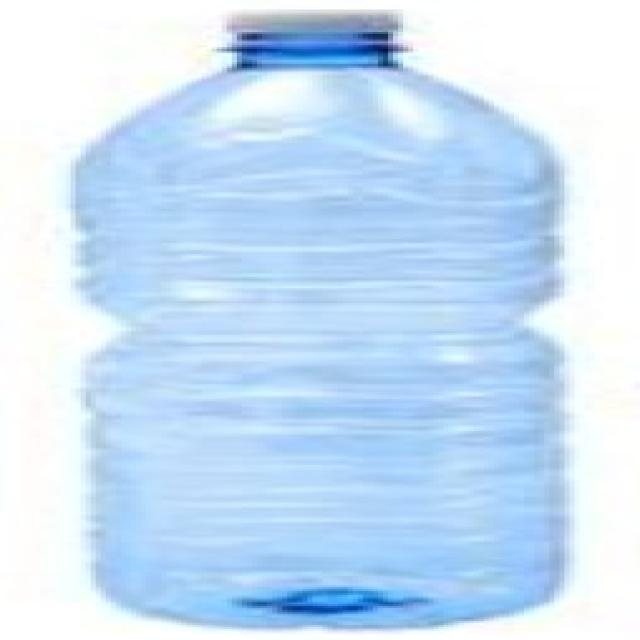general: (66, 8, 570, 628)
